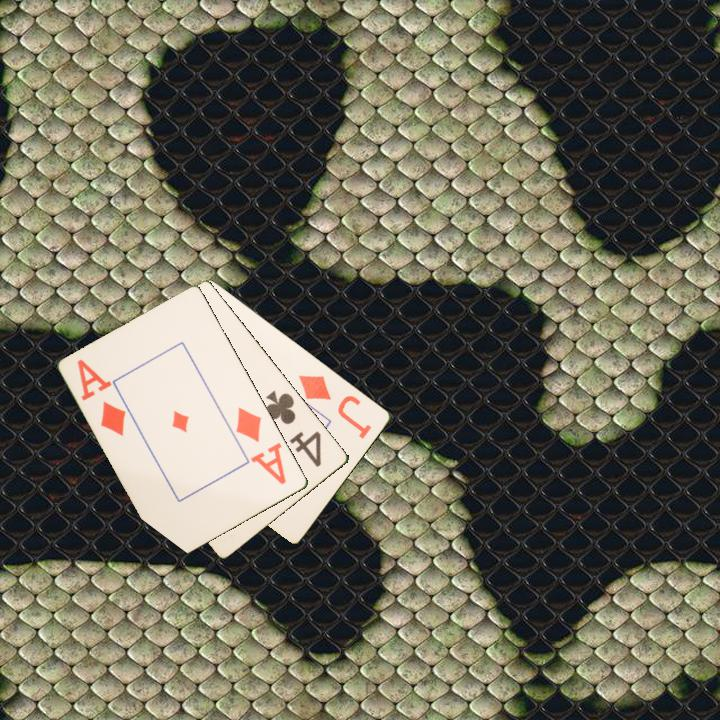4c: (262, 387, 325, 470)
Ad: (233, 404, 290, 488), (74, 355, 129, 439)
Jd: (295, 371, 375, 442)
